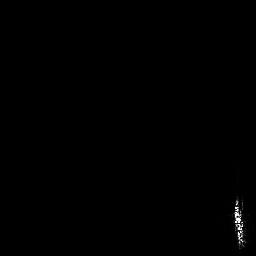ship: (233, 193, 246, 252)
